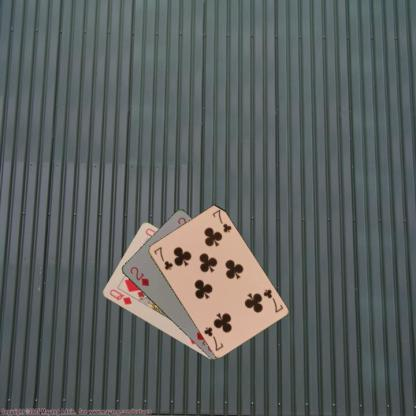2d: (127, 264, 150, 288)
7c: (261, 286, 284, 314), (151, 244, 174, 271)
Qd: (107, 287, 133, 306)
